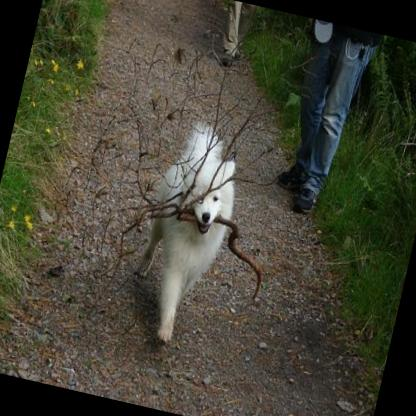Samoyed: (121, 112, 251, 351)
